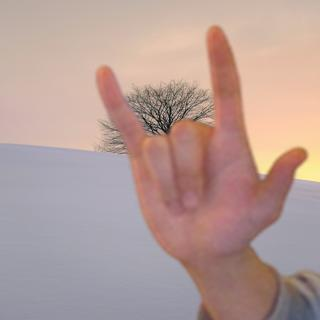ILY: (89, 20, 311, 264)
